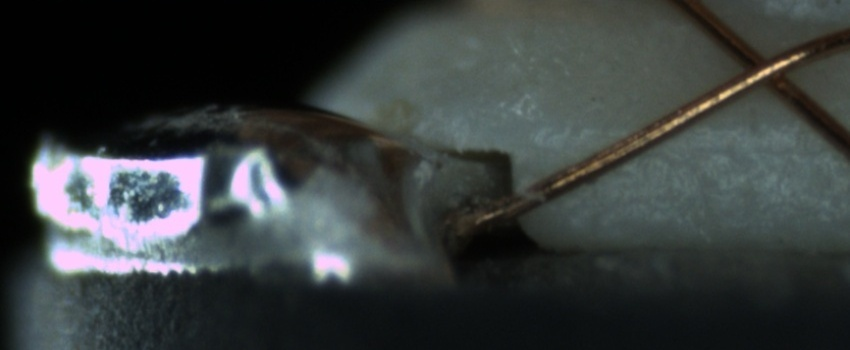CL: (716, 33, 811, 105)
DL: (570, 111, 838, 174)
